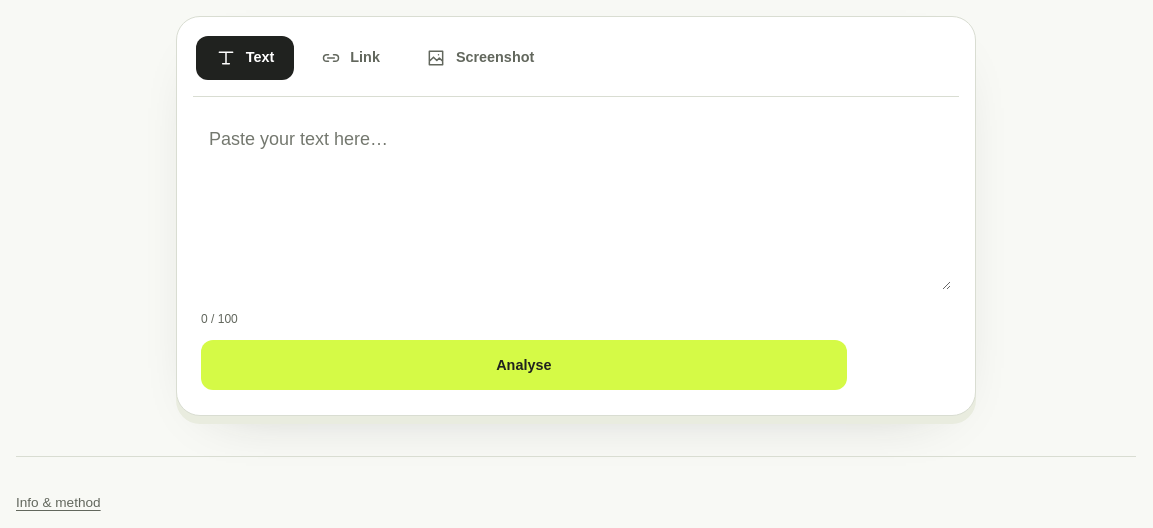
Test case: mandatory URL extraction review › never bypasses confirmation for nonconforming extraction 0
Click the tab "Link": (350, 58) [301,36,400,80]
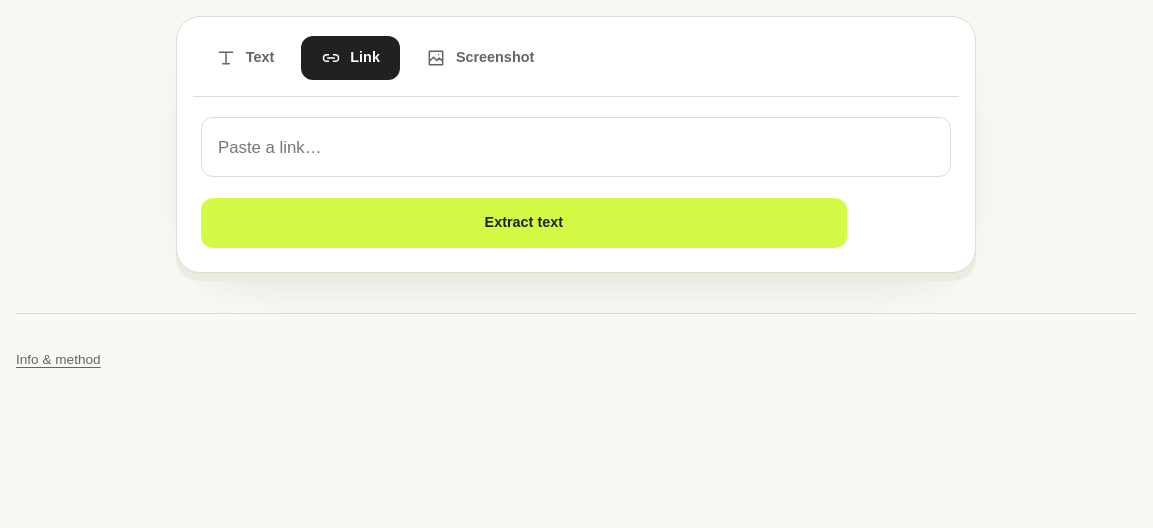
In the field: (576, 147) [201,117,951,177], type "https://example.com/content"
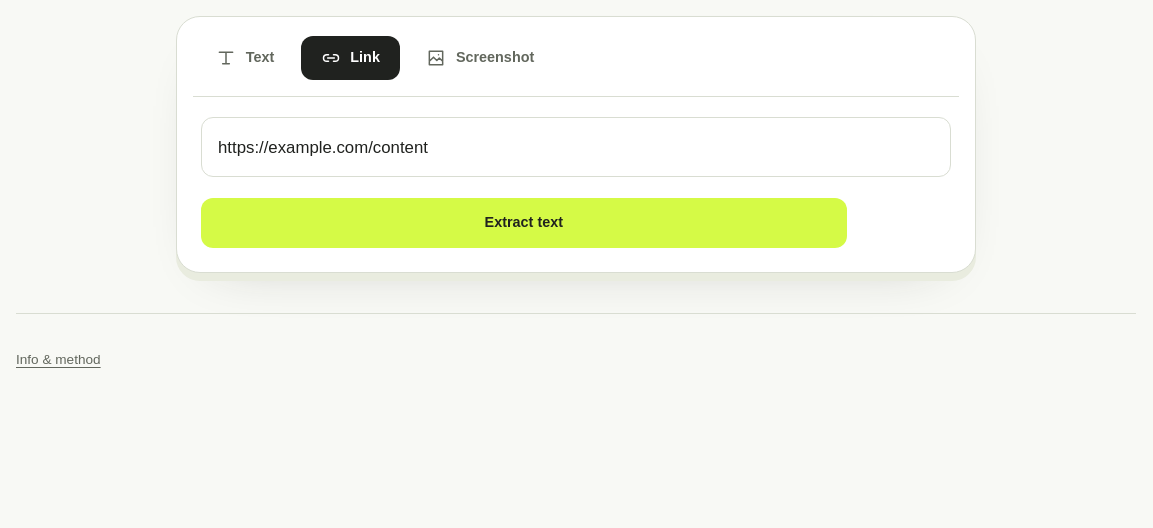
Click the button "Extract text": (524, 223) [201,198,847,248]
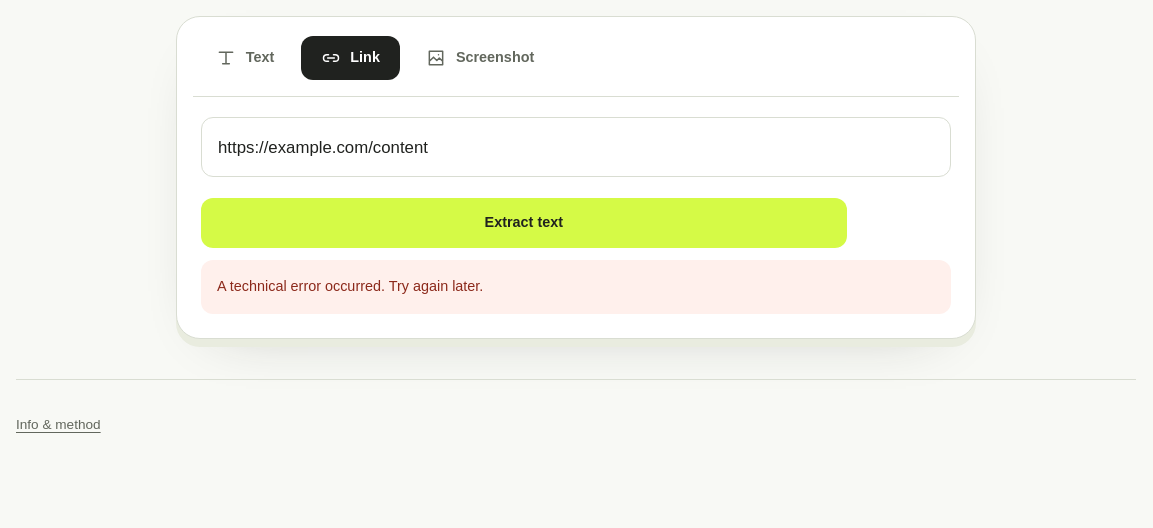
Result: the message reads "A technical error occurred. Try again later." at [217,278,483,294]
